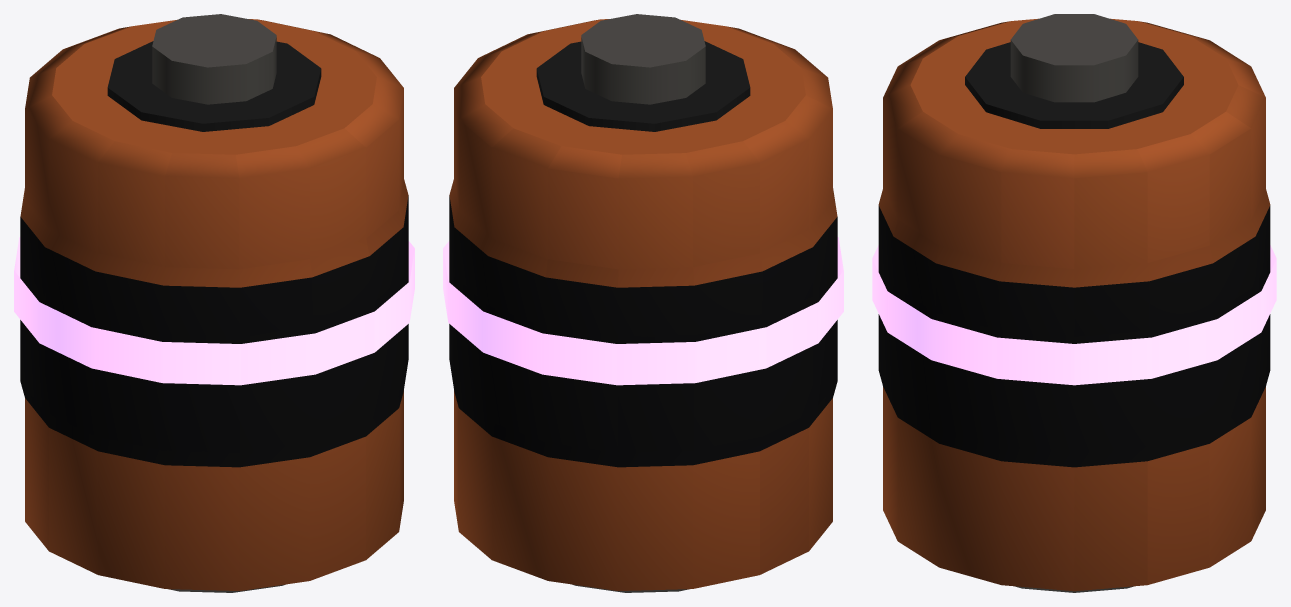
Rendered from battery_cell.glb.
3 views of the same model, side by side, from view 1: azimuth 30°, elevation 25°; view 2: azimuth 150°, elevation 25°; view 3: azimuth 270°, elevation 25° (orthographic).
Parts seen in each view (by area): view 1: Mesh; view 2: Mesh; view 3: Mesh.
Boxes of the visible parts, x1,y1,x2,y2 form: Mesh: (14, 14, 414, 592); Mesh: (443, 14, 843, 592); Mesh: (872, 14, 1276, 592).
Bounding box in the file's own units: 0.444 × 0.6 × 0.444.
